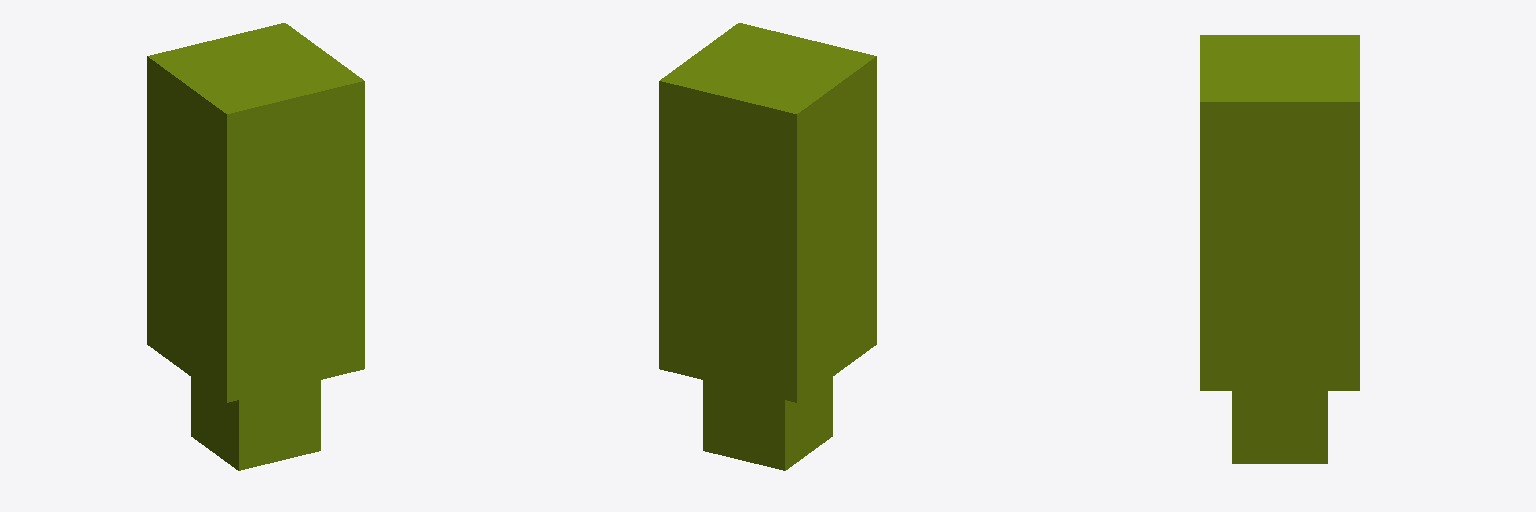
3 renders of one model, left to right at view 1: azimuth 30°, elevation 25°; view 2: azimuth 150°, elevation 25°; view 3: azimuth 270°, elevation 25°, orthographic.
Visible parts, largest first — view 1: 3BlocksTree; view 2: 3BlocksTree; view 3: 3BlocksTree.
Part boxes in pixels (left/top/right/bottom): 3BlocksTree: left=147, top=23, right=364, bottom=470; 3BlocksTree: left=659, top=23, right=876, bottom=470; 3BlocksTree: left=1200, top=35, right=1359, bottom=463.
Size of the model in its own units: 0.5 by 1.3 by 0.5.
1 materials, 1 textured.